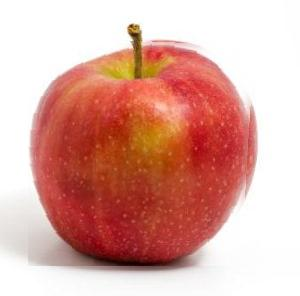Apple Fresh: (29, 37, 255, 267)
